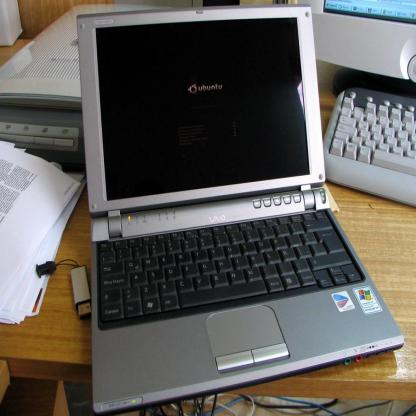board: (76, 2, 405, 413)
